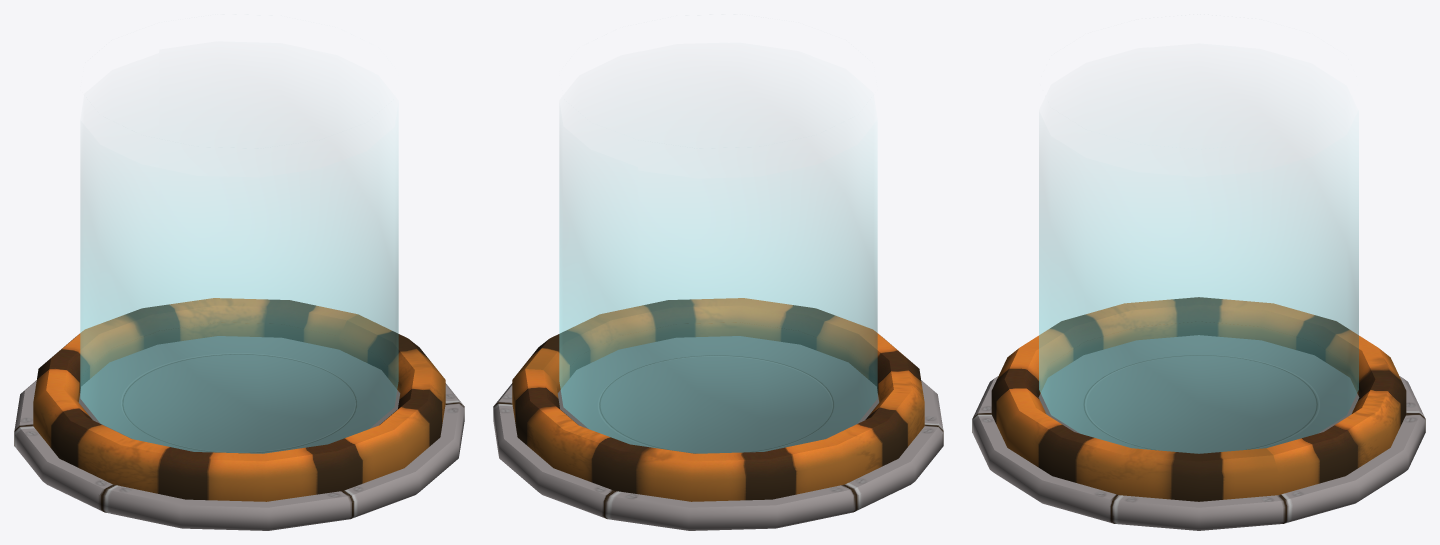
The model's file is Portal 1.fbx.
3 views of the same model, side by side, from view 1: azimuth 30°, elevation 25°; view 2: azimuth 150°, elevation 25°; view 3: azimuth 270°, elevation 25° (orthographic).
Visible parts, largest first — view 1: Cylinder.005, Cylinder.003; view 2: Cylinder.005, Cylinder.003; view 3: Cylinder.005, Cylinder.003.
Part boxes in pixels (x1,y1,x2,y2): Cylinder.005: (80, 139, 398, 453); Cylinder.003: (14, 298, 464, 530); Cylinder.005: (559, 142, 877, 453); Cylinder.003: (493, 298, 943, 530); Cylinder.005: (1039, 144, 1358, 453); Cylinder.003: (972, 297, 1425, 530).
Size of the model in its own units: 218 by 189 by 218.
